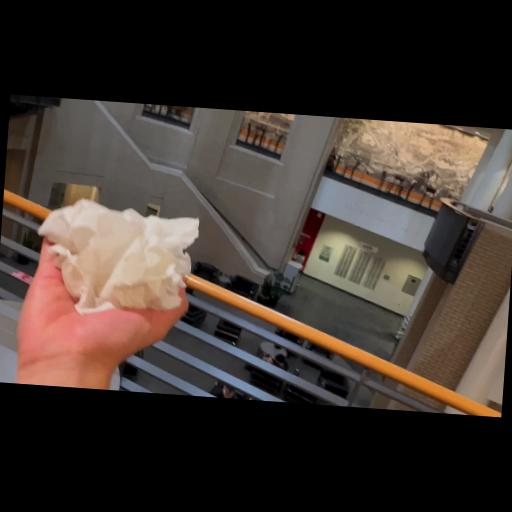napkin: (32, 195, 203, 326)
